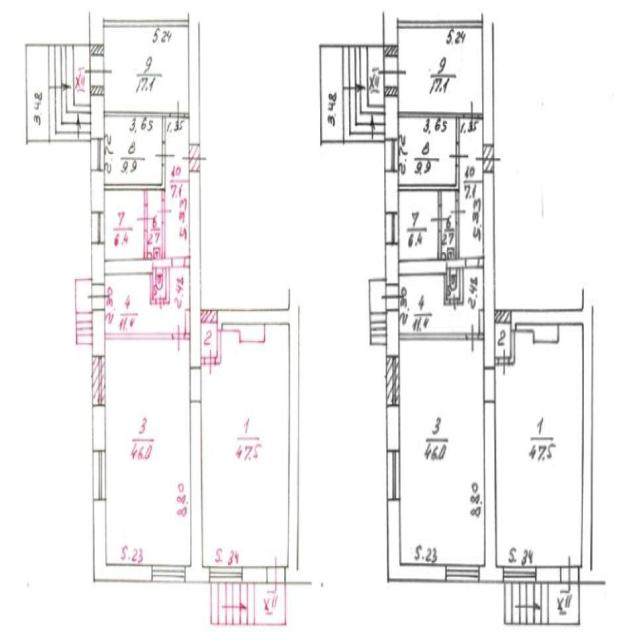Bathrooms: (106, 268, 189, 334), (400, 268, 482, 333), (149, 192, 161, 257), (443, 193, 455, 256)
Corridors: (496, 326, 582, 567), (203, 326, 288, 566), (167, 117, 189, 256), (460, 120, 482, 256), (202, 325, 216, 356), (496, 325, 510, 356)
Doors: (378, 53, 406, 87), (85, 55, 113, 87), (475, 142, 502, 173), (560, 555, 579, 592), (182, 144, 207, 172), (86, 283, 111, 310), (267, 555, 285, 592), (380, 283, 404, 310), (135, 203, 154, 231), (155, 142, 176, 166), (449, 142, 469, 167), (464, 99, 479, 132), (430, 205, 449, 231), (465, 320, 479, 353), (170, 101, 185, 131), (155, 199, 172, 224), (449, 199, 466, 224), (190, 367, 202, 402), (172, 319, 184, 352), (484, 367, 495, 402), (497, 347, 509, 375), (204, 347, 215, 375), (465, 257, 478, 268), (171, 257, 185, 267)
LBwalls: (511, 284, 594, 585), (217, 288, 300, 584), (386, 499, 446, 583), (93, 501, 153, 583), (185, 403, 210, 582), (479, 402, 503, 584), (483, 172, 495, 367), (189, 173, 201, 366), (188, 11, 200, 145), (482, 12, 494, 144), (398, 259, 447, 275), (384, 87, 399, 138), (105, 259, 153, 274), (383, 11, 399, 55), (90, 88, 104, 138), (89, 10, 104, 55), (92, 310, 106, 356), (92, 404, 106, 450), (386, 407, 400, 450), (90, 244, 105, 283), (90, 171, 104, 212), (386, 311, 399, 354), (385, 172, 399, 211), (385, 244, 399, 283), (243, 566, 267, 583), (537, 566, 560, 582), (479, 309, 485, 334), (185, 307, 190, 334)
Offices: (106, 342, 190, 566), (400, 341, 484, 564), (105, 28, 188, 110), (399, 30, 482, 110), (106, 117, 162, 183), (400, 119, 455, 183), (105, 191, 143, 258), (400, 192, 438, 258)
Stairs: (319, 43, 385, 144), (26, 43, 90, 142), (210, 582, 286, 626), (504, 584, 581, 626), (369, 278, 387, 346), (75, 278, 92, 345)
Walls: (399, 164, 459, 204), (104, 166, 166, 202), (104, 110, 170, 142), (400, 110, 464, 142), (397, 20, 482, 29), (103, 20, 188, 27), (106, 333, 173, 341), (399, 333, 465, 341), (508, 332, 516, 365), (495, 309, 511, 324), (214, 331, 221, 365), (201, 309, 217, 323), (152, 258, 170, 268), (455, 224, 460, 258), (447, 259, 465, 268), (161, 225, 165, 258), (144, 230, 148, 259), (438, 231, 442, 259), (185, 256, 190, 268), (479, 258, 483, 268), (184, 334, 190, 340), (479, 112, 483, 120), (479, 334, 484, 340), (495, 356, 498, 366), (201, 356, 204, 366), (185, 112, 189, 119)
Windows: (91, 356, 106, 406), (386, 450, 400, 499), (386, 356, 399, 407), (93, 450, 106, 501), (152, 565, 185, 583), (209, 566, 243, 583), (503, 566, 536, 583), (446, 566, 480, 582), (384, 137, 399, 172), (90, 138, 105, 171), (385, 211, 399, 246), (91, 211, 105, 245)
